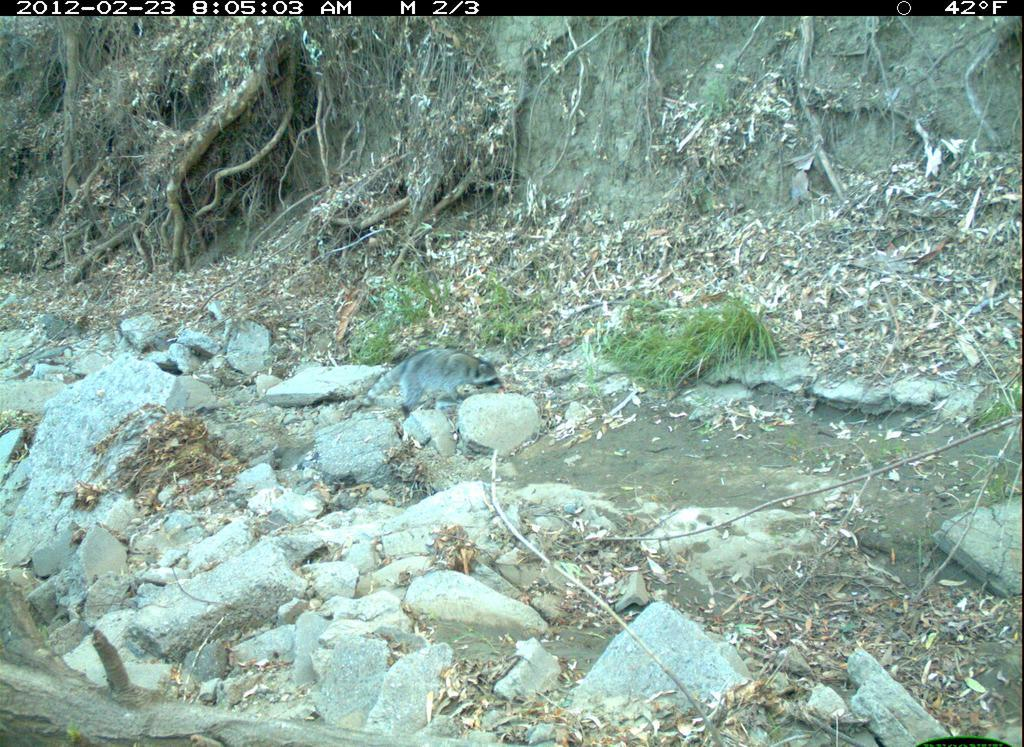raccoon: (338, 337, 516, 424)
